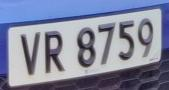5: (115, 17, 138, 63)
7: (94, 20, 118, 69)
8: (74, 21, 99, 74)
9: (135, 15, 157, 61)
R: (42, 25, 68, 78)
V: (16, 28, 43, 80)
